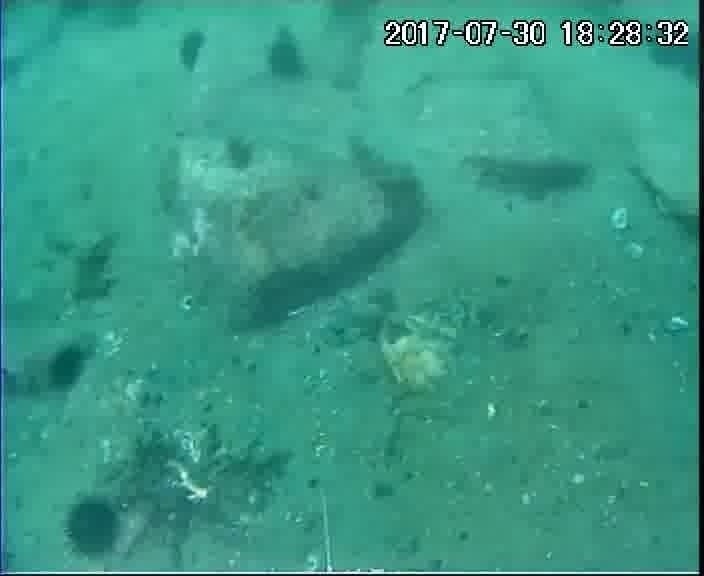echinus: (60, 493, 126, 562), (639, 15, 703, 86), (42, 341, 93, 396), (261, 32, 311, 88), (172, 27, 211, 76)
